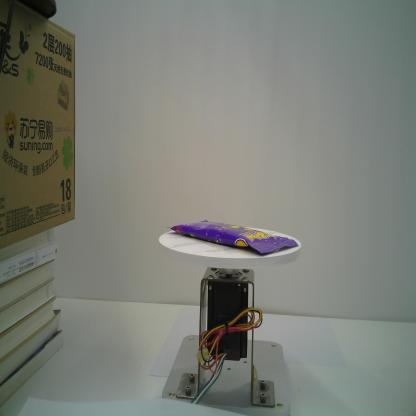Candy: (166, 217, 300, 254)
